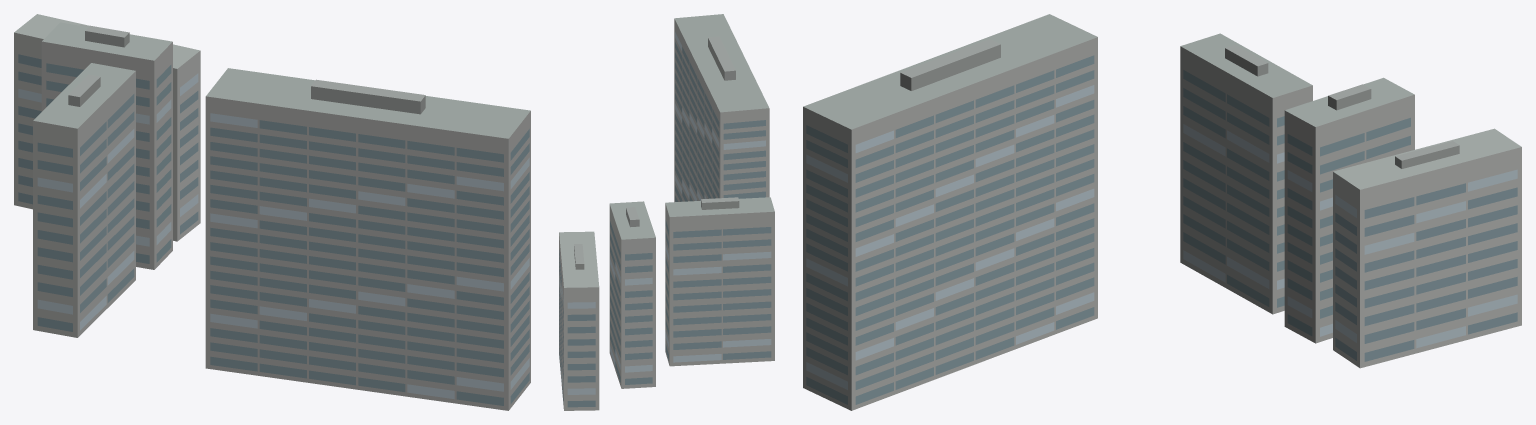
Rendered from apt-a15076701.glb.
The picture shows the model from 3 angles, left to right: view 1: azimuth 30°, elevation 25°; view 2: azimuth 150°, elevation 25°; view 3: azimuth 270°, elevation 25°; orthographic projection. The views are drawn at different scales.
Parts seen in each view (by area): view 1: apt-a15076701; view 2: apt-a15076701; view 3: apt-a15076701.
Part boxes in pixels (x1,y1,x2,y2): apt-a15076701: [14, 14, 530, 410]; apt-a15076701: [559, 14, 774, 410]; apt-a15076701: [803, 14, 1521, 410].
Size of the model in its own units: 61.01 by 52 by 115.
